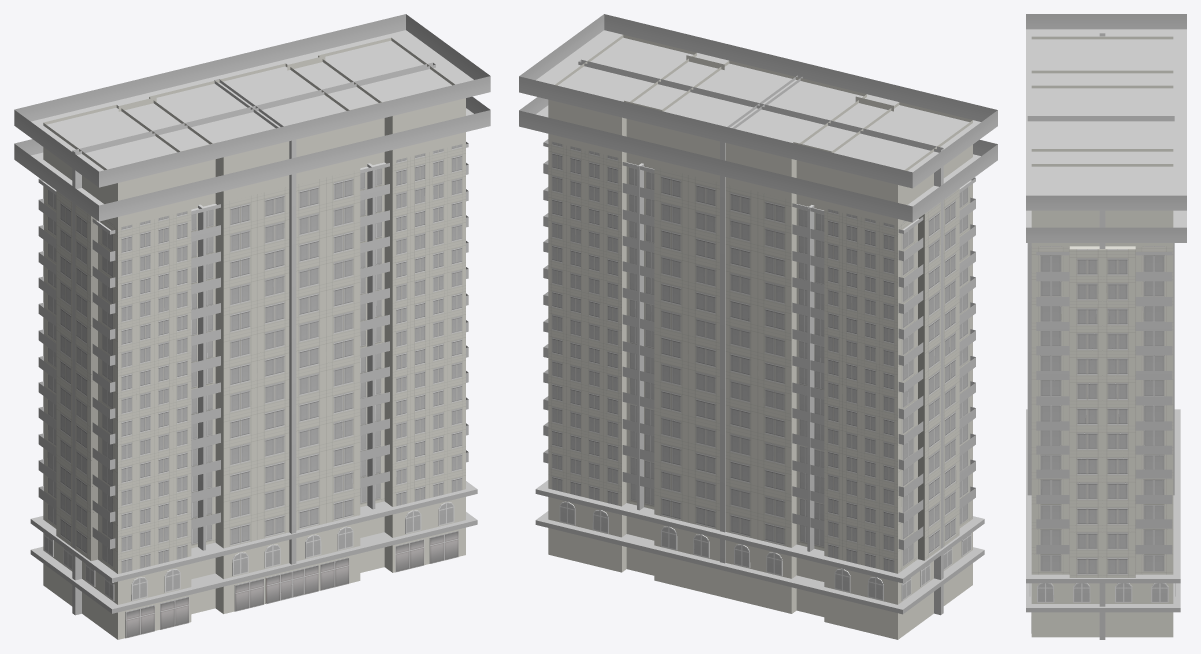
File: BuildingBig2.fbx
The picture shows the model from 3 angles, left to right: view 1: azimuth 30°, elevation 25°; view 2: azimuth 150°, elevation 25°; view 3: azimuth 270°, elevation 25°; orthographic projection. The views are drawn at different scales.
Parts seen in each view (by area): view 1: Building_LOD0, Balcon_LOD0, Door_LOD0, Window1_LOD0; view 2: Building_LOD0, Balcon_LOD0, Window1_LOD0; view 3: Building_LOD0, Balcon_LOD0, Window1_LOD0.
Boxes of the visible parts, x1,y1,x2,y2 form: Building_LOD0: (43, 37, 465, 639); Balcon_LOD0: (14, 14, 490, 615); Door_LOD0: (125, 530, 458, 638); Window1_LOD0: (44, 502, 454, 600); Building_LOD0: (548, 34, 972, 639); Balcon_LOD0: (519, 14, 997, 615); Window1_LOD0: (559, 501, 971, 600); Building_LOD0: (1031, 36, 1173, 637); Balcon_LOD0: (1026, 14, 1186, 639); Window1_LOD0: (1029, 583, 1175, 602).
Size of what is drawn, in the model's own units: 5912 by 6861 by 2215.
